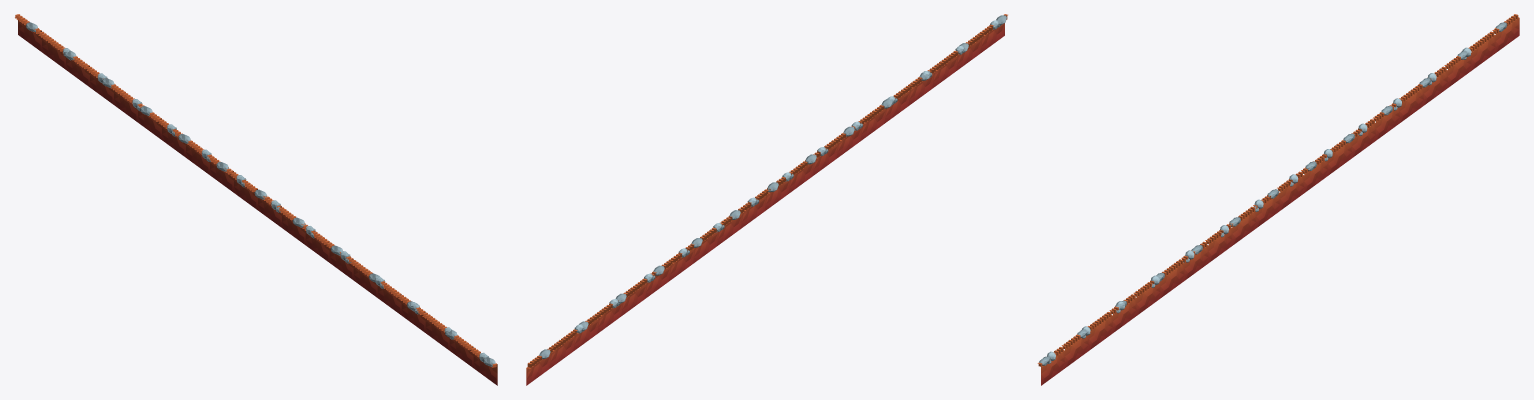
The model's file is SM_Red_Wall_Big.fbx.
3 renders of one model, left to right at view 1: azimuth 30°, elevation 25°; view 2: azimuth 150°, elevation 25°; view 3: azimuth 330°, elevation 25°, orthographic.
Visible parts, largest first — view 1: SM_RedWall_big; view 2: SM_RedWall_big; view 3: SM_RedWall_big.
Boxes of the visible parts, x1,y1,x2,y2 form: SM_RedWall_big: (15, 14, 497, 385); SM_RedWall_big: (526, 14, 1007, 385); SM_RedWall_big: (1037, 14, 1519, 385).
Bounding box in the file's own units: 263 × 675 × 24000.
